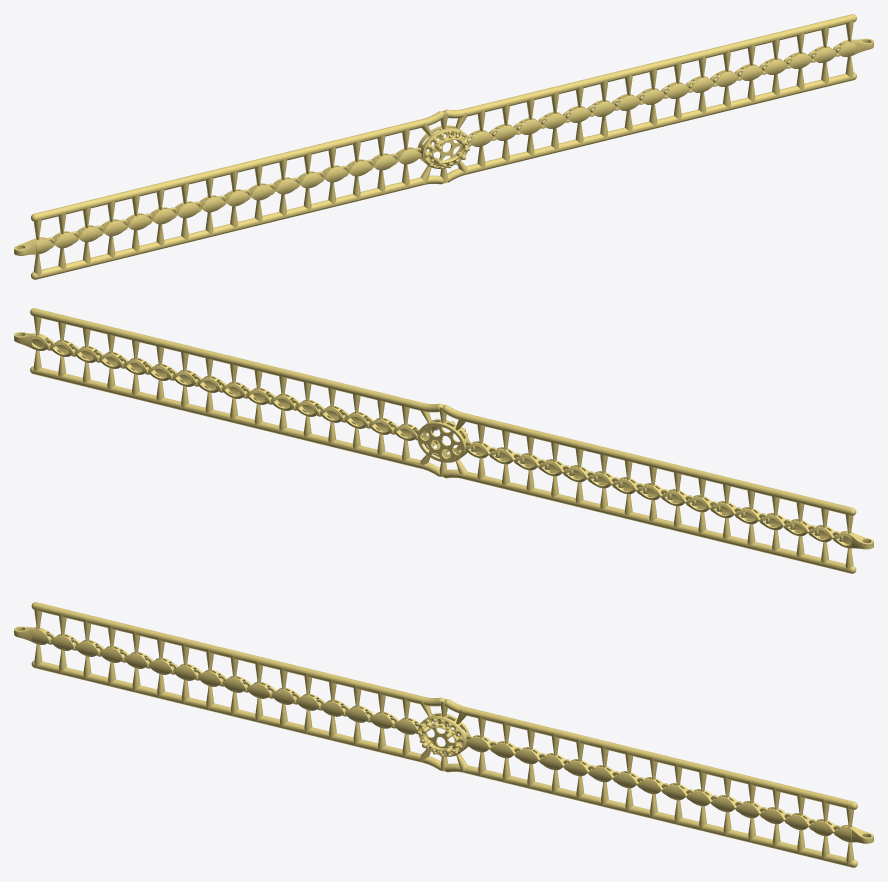
File: yzn5-97_7.glb
3 renders of one model, top to bottom at view 1: azimuth 30°, elevation 25°; view 2: azimuth 150°, elevation 25°; view 3: azimuth 330°, elevation 25°, orthographic.
Visible parts, largest first — view 1: Renderer Node; view 2: Renderer Node; view 3: Renderer Node.
Part boxes in pixels (box(x1,y1,x2,y2)): Renderer Node: box(14, 14, 873, 279); Renderer Node: box(14, 308, 873, 573); Renderer Node: box(14, 602, 873, 867).
Size of the model in its own units: 180 by 14.49 by 4.57.
